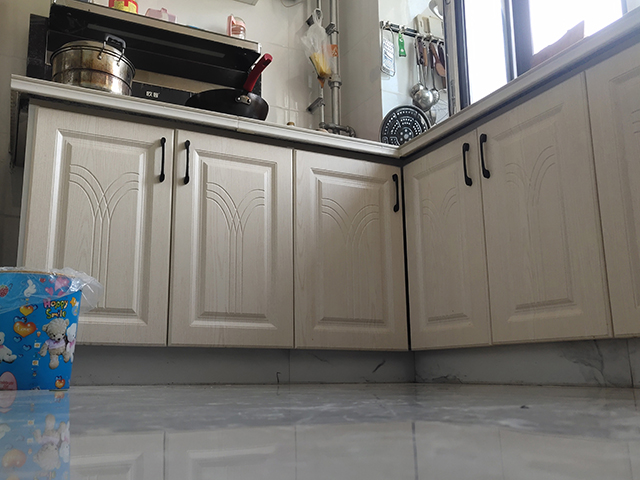cabinet: (8, 75, 410, 388), (404, 34, 640, 389)
trashcan: (1, 269, 88, 392)
